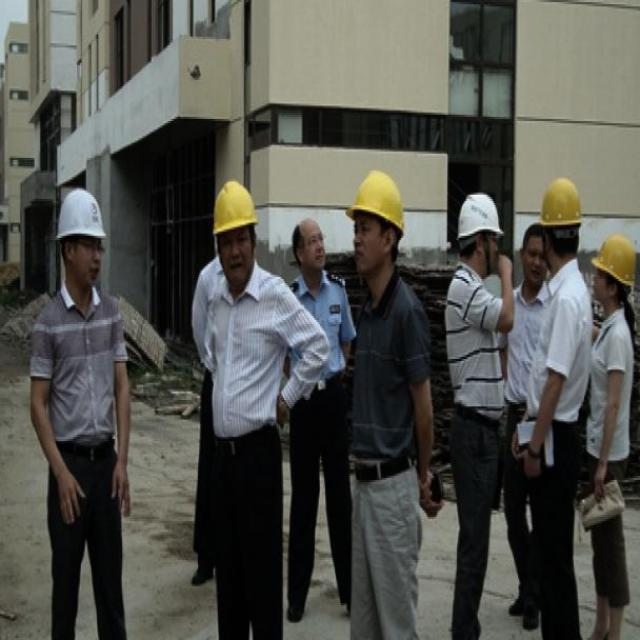helmet: (204, 167, 268, 306), (46, 182, 110, 296), (346, 171, 406, 281), (589, 220, 639, 327), (449, 182, 500, 272), (537, 172, 580, 272)
